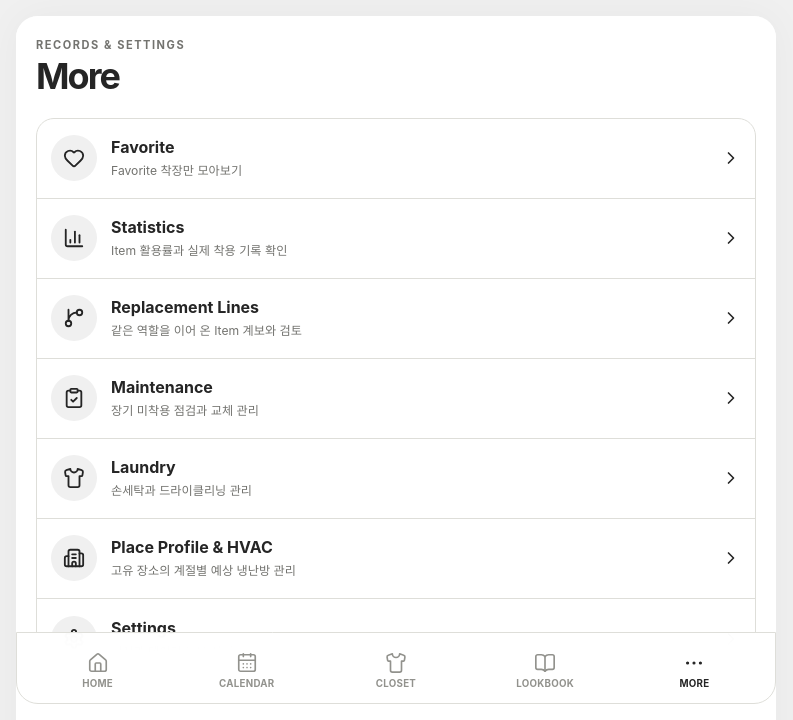
Test: P6-4 Maintenance flow › 사건 조회 실패를 대상 0개로 표시하지 않고 별도 오류로 보여준다
What coordinates should you click on to do the following:
click the link "Maintenance 장기 미착용 점검과 교체 관리"
I would click on:
 (74, 398)
Its box is [37,359,755,439].
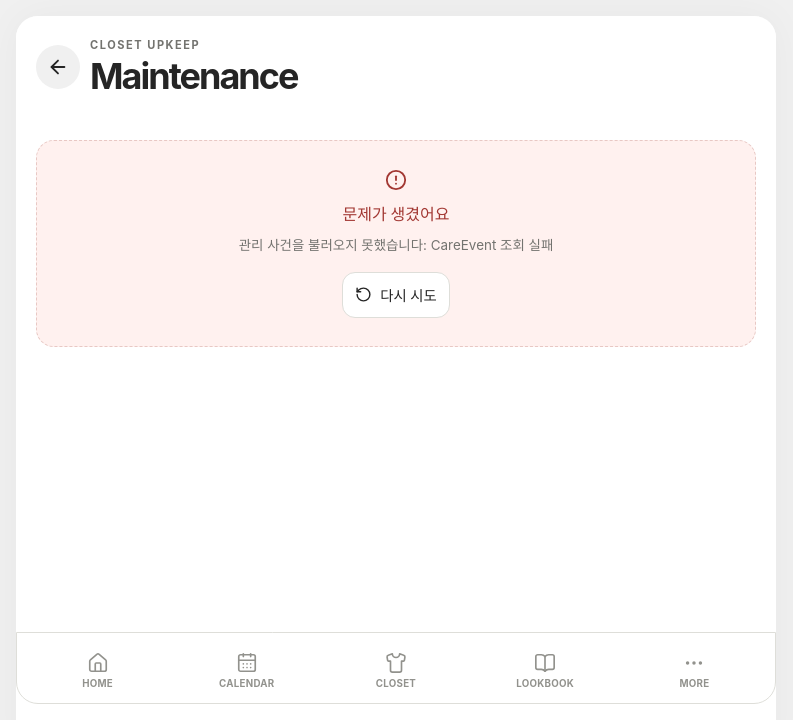
Now the text "관리 사건을 불러오지 못했습니다: CareEvent 조회 실패" is shown, box [239,235,553,256]
Now the link "손세탁" is gone
